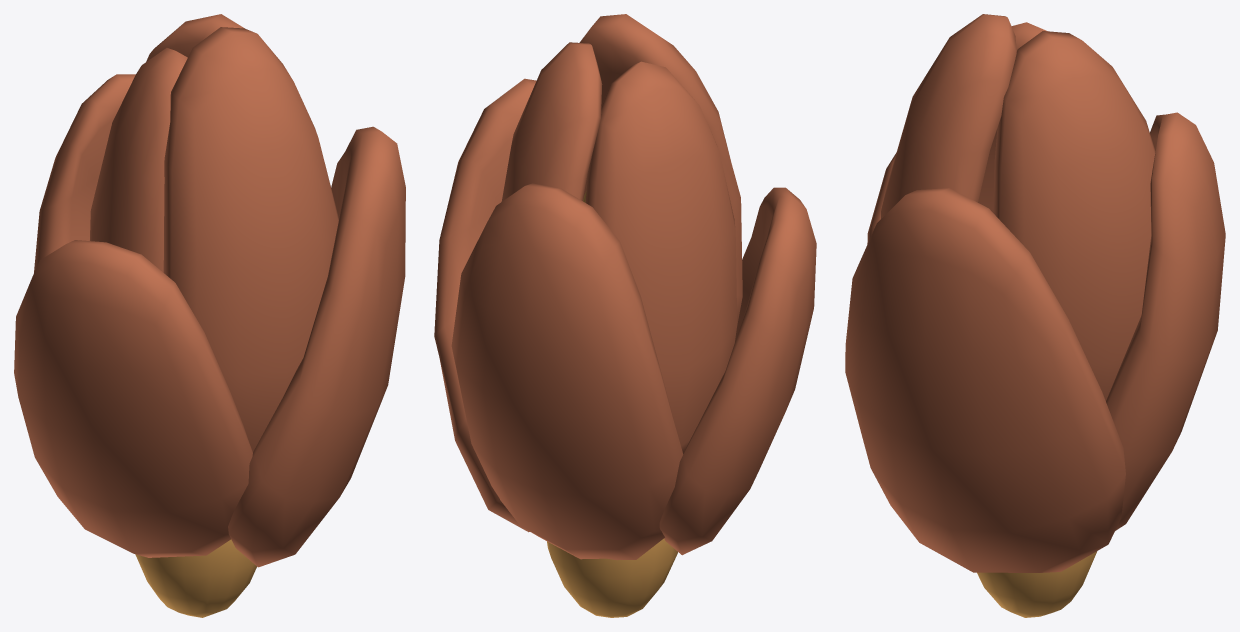
Rendered from Spiker_01.glb.
The picture shows the model from 3 angles, left to right: view 1: azimuth 30°, elevation 25°; view 2: azimuth 150°, elevation 25°; view 3: azimuth 270°, elevation 25°; orthographic projection. The views are drawn at different scales.
Visible parts, largest first — view 1: Spiker_01_LOD0; view 2: Spiker_01_LOD0; view 3: Spiker_01_LOD0.
Boxes of the visible parts, x1=… form: Spiker_01_LOD0: x1=14, y1=14, x2=405, y2=617; Spiker_01_LOD0: x1=434, y1=14, x2=816, y2=617; Spiker_01_LOD0: x1=845, y1=14, x2=1225, y2=617.
Size of what is drawn, in the model's own units: 3.06 by 4.95 by 2.84.
1 material, 1 textured.
